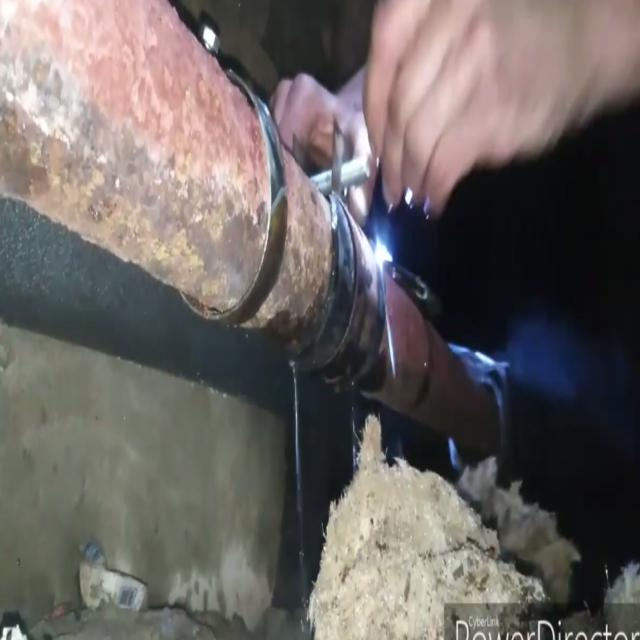leak: (290, 360, 304, 575)
